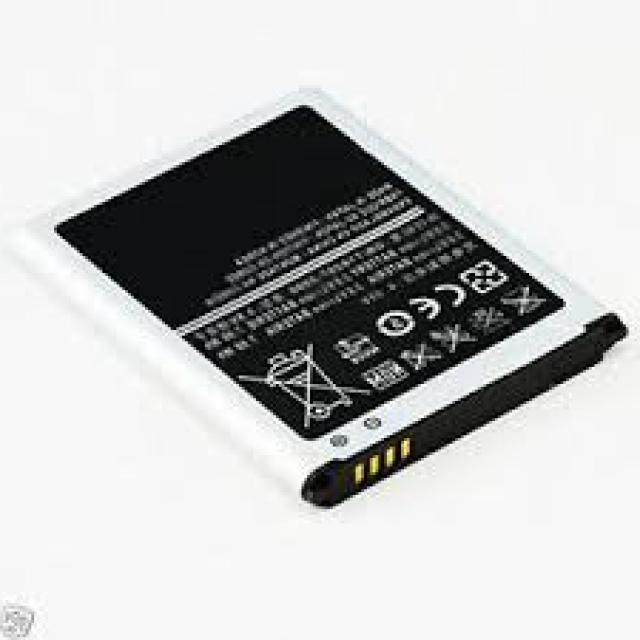battery: (2, 78, 630, 511)
